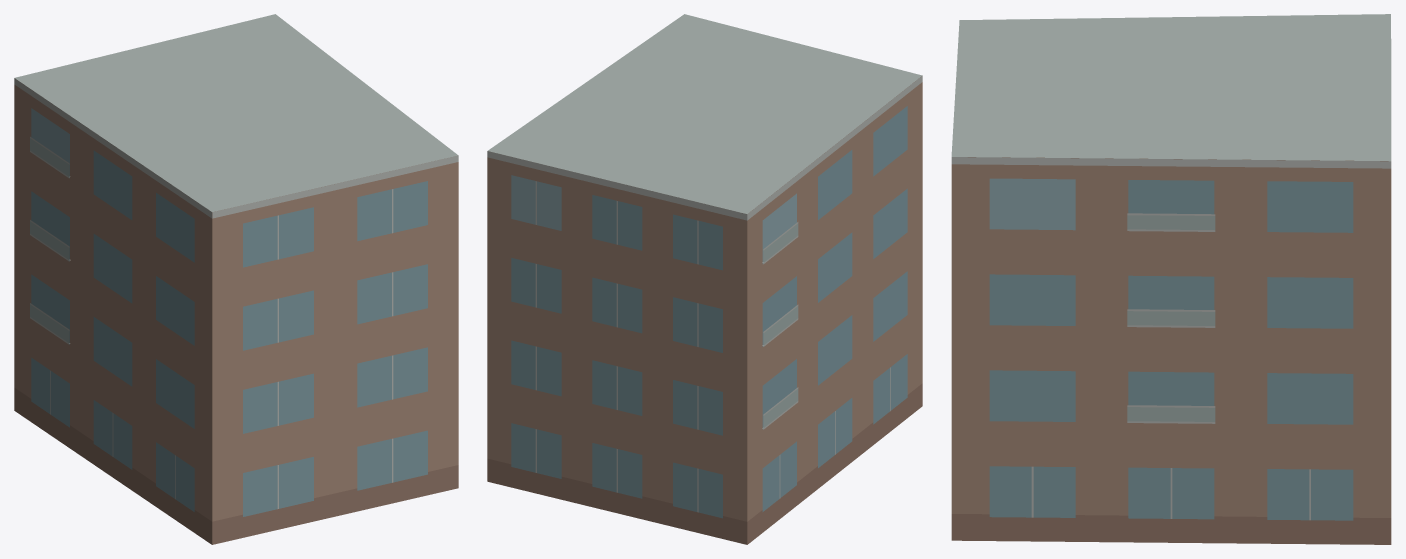
Rendered from survey-upis-32913256.glb.
3 renders of one model, left to right at view 1: azimuth 30°, elevation 25°; view 2: azimuth 150°, elevation 25°; view 3: azimuth 270°, elevation 25°, orthographic. The views are drawn at different scales.
Parts seen in each view (by area): view 1: survey-upis-32913256.tmp; view 2: survey-upis-32913256.tmp; view 3: survey-upis-32913256.tmp.
Part boxes in pixels (<box>): survey-upis-32913256.tmp: <box>14,14,458,544</box>; survey-upis-32913256.tmp: <box>487,14,922,544</box>; survey-upis-32913256.tmp: <box>951,14,1391,544</box>.
Bounding box in the file's own units: 10.37 × 12.6 × 13.1.
